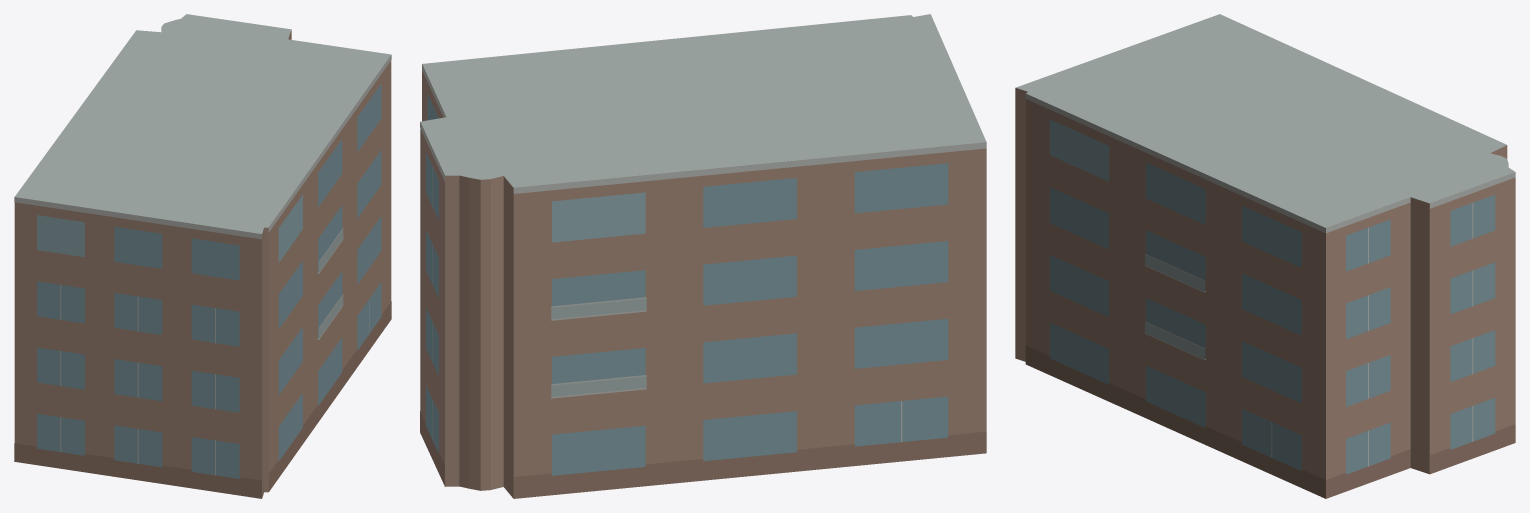
The model's file is survey-upis-32598152.glb.
3 renders of one model, left to right at view 1: azimuth 30°, elevation 25°; view 2: azimuth 150°, elevation 25°; view 3: azimuth 270°, elevation 25°, orthographic. The views are drawn at different scales.
Visible parts, largest first — view 1: survey-upis-32598152.tmp; view 2: survey-upis-32598152.tmp; view 3: survey-upis-32598152.tmp.
Part boxes in pixels (left/top/right/bottom): survey-upis-32598152.tmp: left=14, top=14, right=391, bottom=498; survey-upis-32598152.tmp: left=420, top=14, right=986, bottom=498; survey-upis-32598152.tmp: left=1015, top=14, right=1515, bottom=498.
Size of the model in its own units: 20.86 by 12.3 by 20.59.
